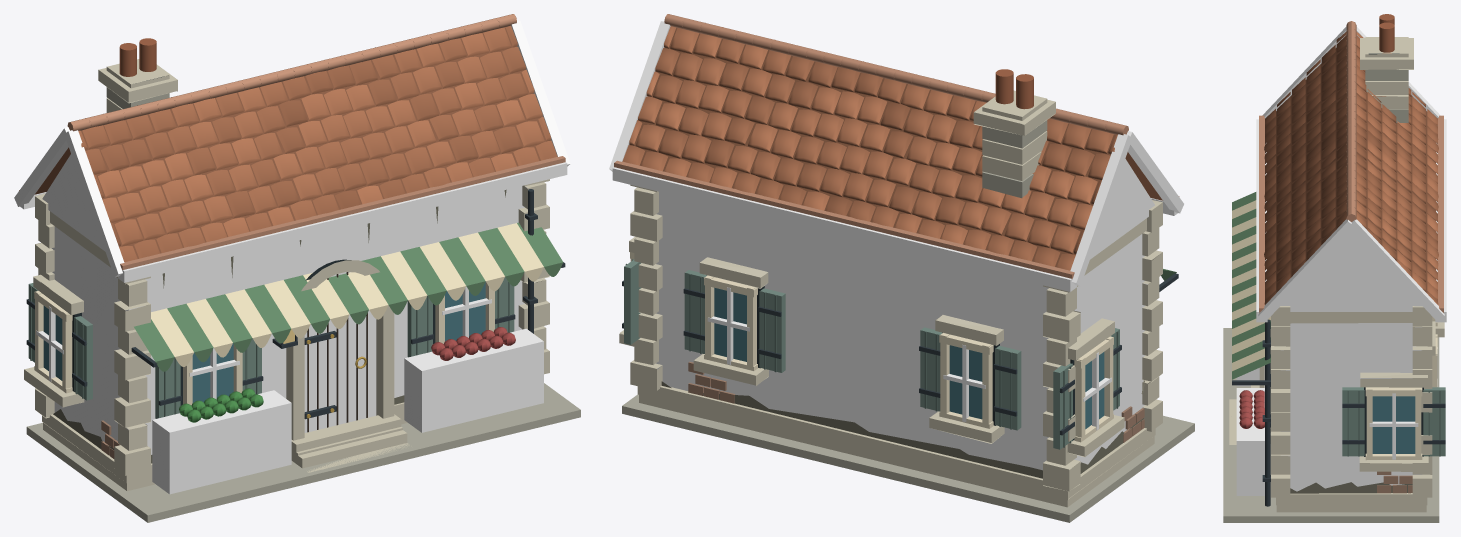
The model's file is market_hall.glb.
3 renders of one model, left to right at view 1: azimuth 30°, elevation 25°; view 2: azimuth 150°, elevation 25°; view 3: azimuth 270°, elevation 25°, orthographic. The views are drawn at different scales.
Parts seen in each view (by area): view 1: SourceMesh_00056, SourceMesh_00005, SourceMesh_00000, SourceMesh_00294, SourceMesh_00307, SourceMesh_00047, SourceMesh_00093, SourceMesh_00048, SourceMesh_00049, SourceMesh_00050, SourceMesh_00052, SourceMesh_00095 (+50 smaller); view 2: SourceMesh_00056, SourceMesh_00005, SourceMesh_00000, SourceMesh_00044, SourceMesh_00006, SourceMesh_00045, SourceMesh_00001, SourceMesh_00046, SourceMesh_00050, SourceMesh_00322, SourceMesh_00051, SourceMesh_00219 (+34 smaller); view 3: SourceMesh_00056, SourceMesh_00005, SourceMesh_00053, SourceMesh_00000, SourceMesh_00047, SourceMesh_00044, SourceMesh_00307, SourceMesh_00165, SourceMesh_00006, SourceMesh_00054, SourceMesh_00055, SourceMesh_00007 (+44 smaller).
Part boxes in pixels (left/top/right/bottom): SourceMesh_00056: left=78, top=25, right=557, bottom=262; SourceMesh_00005: left=51, top=186, right=535, bottom=454; SourceMesh_00000: left=26, top=383, right=580, bottom=522; SourceMesh_00294: left=152, top=390, right=291, bottom=494; SourceMesh_00307: left=404, top=328, right=543, bottom=432; SourceMesh_00047: left=81, top=27, right=545, bottom=258; SourceMesh_00093: left=304, top=272, right=376, bottom=432; SourceMesh_00048: left=118, top=162, right=567, bottom=282; SourceMesh_00049: left=120, top=156, right=565, bottom=269; SourceMesh_00050: left=42, top=154, right=105, bottom=251; SourceMesh_00052: left=64, top=130, right=124, bottom=277; SourceMesh_00095: left=376, top=305, right=394, bottom=418; SourceMesh_00056: left=622, top=26, right=1117, bottom=270; SourceMesh_00005: left=645, top=191, right=1147, bottom=470; SourceMesh_00000: left=622, top=394, right=1194, bottom=522; SourceMesh_00044: left=634, top=27, right=1114, bottom=267; SourceMesh_00006: left=637, top=386, right=1155, bottom=500; SourceMesh_00045: left=612, top=167, right=1076, bottom=291; SourceMesh_00001: left=639, top=395, right=1154, bottom=507; SourceMesh_00046: left=614, top=160, right=1074, bottom=279; SourceMesh_00050: left=1090, top=159, right=1154, bottom=259; SourceMesh_00322: left=661, top=381, right=1042, bottom=478; SourceMesh_00051: left=1070, top=134, right=1130, bottom=286; SourceMesh_00219: left=995, top=345, right=1021, bottom=430; SourceMesh_00056: left=1264, top=31, right=1438, bottom=304; SourceMesh_00005: left=1281, top=323, right=1421, bottom=491; SourceMesh_00053: left=1281, top=231, right=1422, bottom=311; SourceMesh_00000: left=1223, top=328, right=1439, bottom=522; SourceMesh_00047: left=1267, top=45, right=1346, bottom=293; SourceMesh_00044: left=1356, top=45, right=1435, bottom=293; SourceMesh_00307: left=1236, top=388, right=1264, bottom=495; SourceMesh_00165: left=1372, top=396, right=1415, bottom=453; SourceMesh_00006: left=1276, top=493, right=1427, bottom=505; SourceMesh_00054: left=1348, top=219, right=1444, bottom=321; SourceMesh_00055: left=1258, top=219, right=1354, bottom=321; SourceMesh_00007: left=1290, top=312, right=1412, bottom=323.
Size of the model in its own units: 6.89 by 5.7 by 3.31.
